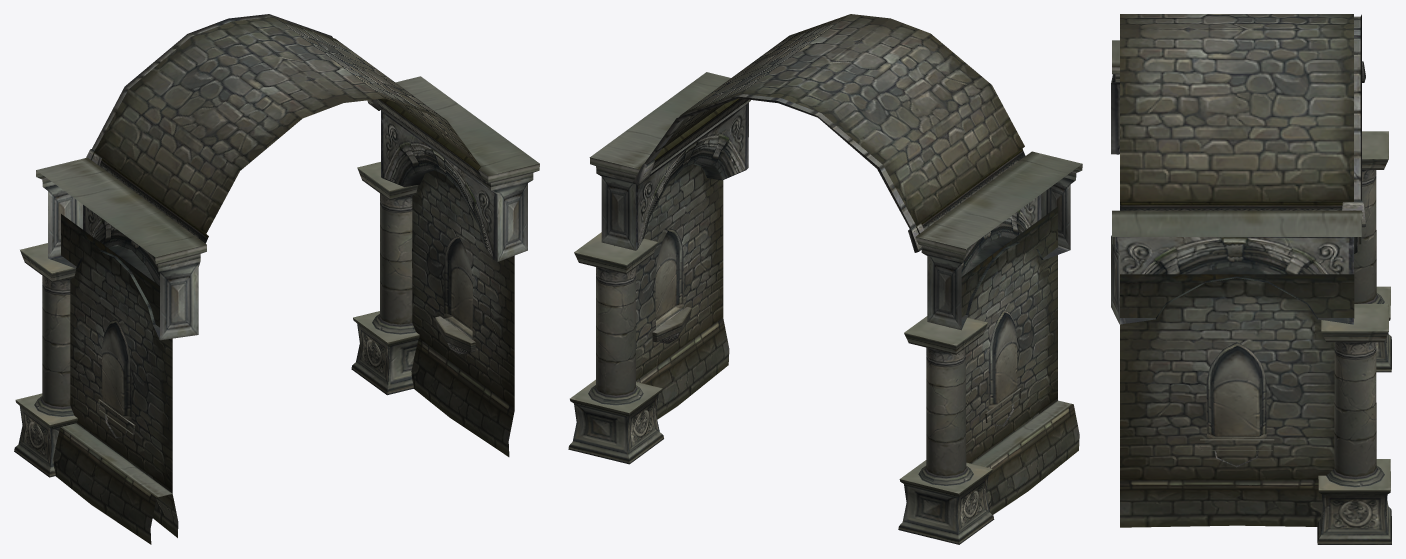
Rendered from DN_1_4_ldao02_a.FBX.
3 views of the same model, side by side, from view 1: azimuth 30°, elevation 25°; view 2: azimuth 150°, elevation 25°; view 3: azimuth 270°, elevation 25° (orthographic). The views are drawn at different scales.
Parts seen in each view (by area): view 1: Object004, DN_1_4_ldao02_a, Object007, Object005; view 2: Object004, DN_1_4_ldao02_a, Object007, Object005; view 3: DN_1_4_ldao02_a, Object007, Object004, Object005.
Boxes of the visible parts, x1,y1,x2,y2 form: Object004: [36, 19, 342, 493]; DN_1_4_ldao02_a: [14, 14, 539, 544]; Object007: [351, 162, 419, 395]; Object005: [20, 243, 76, 416]; Object004: [778, 18, 1082, 463]; DN_1_4_ldao02_a: [589, 14, 1079, 544]; Object007: [568, 232, 663, 464]; Object005: [904, 316, 987, 485]; DN_1_4_ldao02_a: [1111, 29, 1391, 527]; Object007: [1317, 304, 1391, 544]; Object004: [1111, 14, 1365, 154]; Object005: [1354, 131, 1388, 303].
Bounding box in the file's own units: 938 × 884 × 544.
